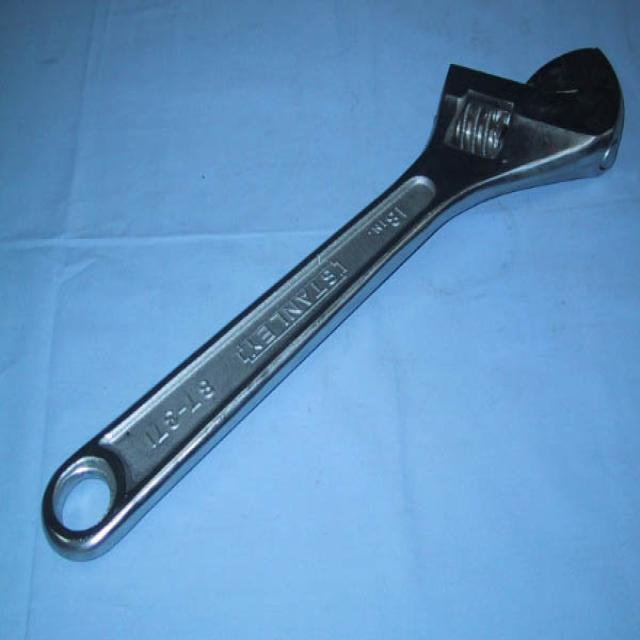wrench: (20, 30, 639, 640)
